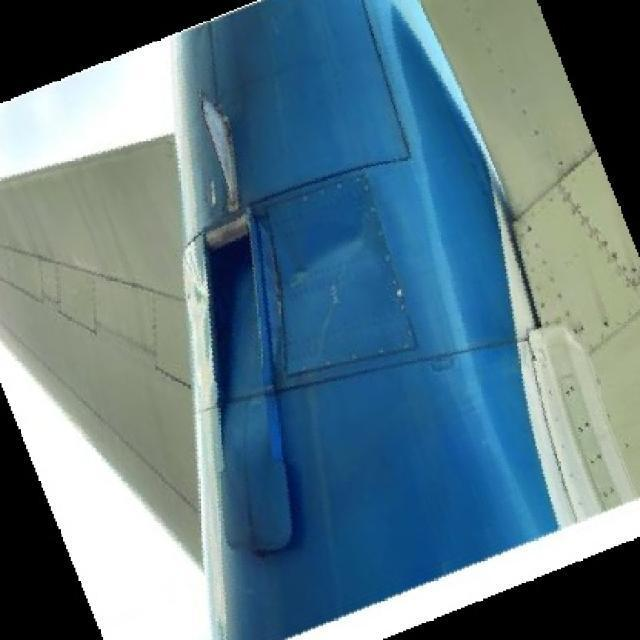dent: (251, 199, 416, 296)
